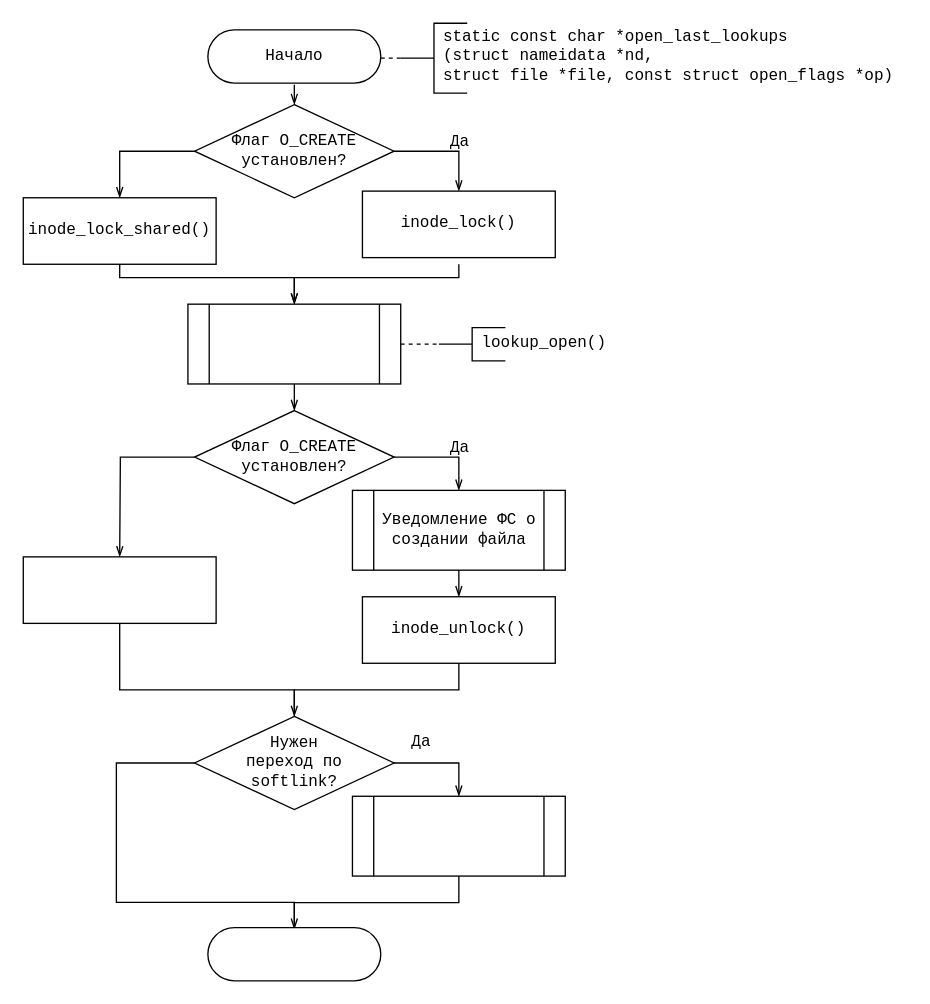
Image size: 930x1004. Some labels were removed from this diagram. The centre of each missing label's shape, as x and y in pixels:
"inode_unlock_shared()" belongs at [119,589].
"Конец" belongs at [294,953].
"Переход по softlink" belongs at [458,835].
"Поиск и открытие файла с возможностью его создания" belongs at [294,343].
